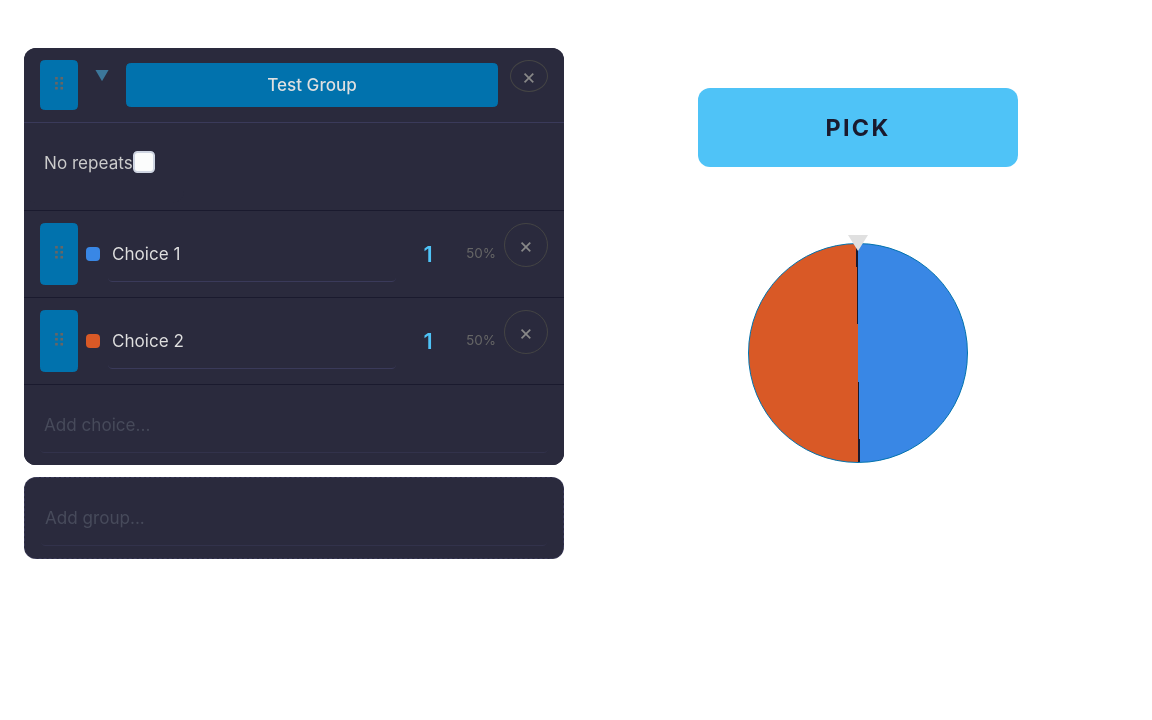
Test case: WeightedChoices grouped structure › Undo toast › shows an undo toast after deleting a choice
Check: the 1st field showing "Choice 1" is shown, box x1=108 y1=226 x2=396 y2=282
Click the 2nd button "×" at point(526, 245), box x1=504 y1=223 x2=548 y2=267
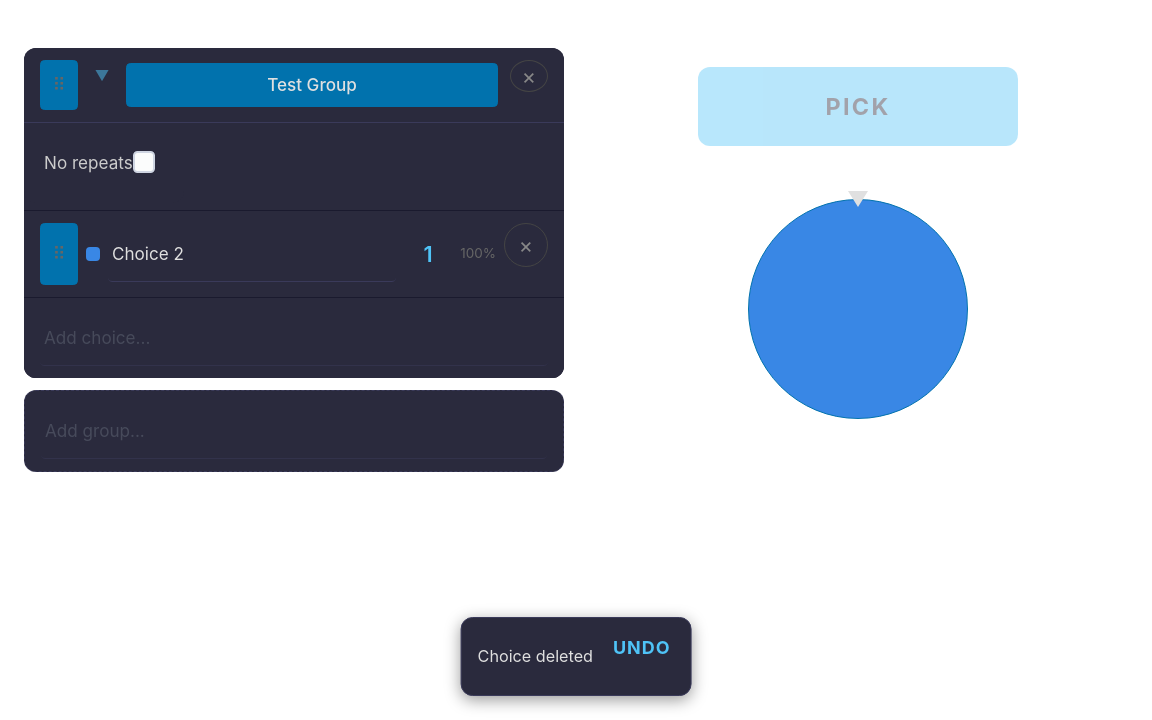
Check: the text "Choice deleted" is shown, box x1=478 y1=644 x2=593 y2=669
Check: the button "Undo" is shown, box x1=609 y1=630 x2=674 y2=665
